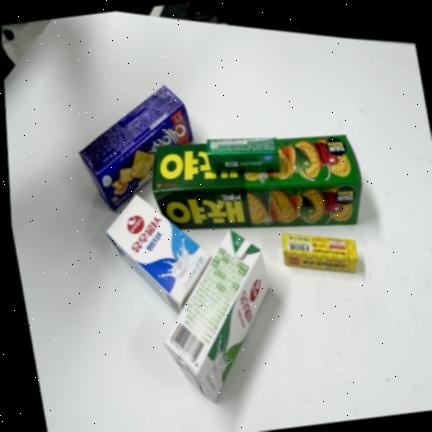cracker_ace: (79, 85, 192, 209)
cracker_vege: (152, 133, 361, 230)
gum_green: (206, 137, 279, 172)
gum_yellow: (282, 233, 357, 272)
milk_blue: (106, 195, 210, 311)
milk_green: (164, 229, 268, 401)
